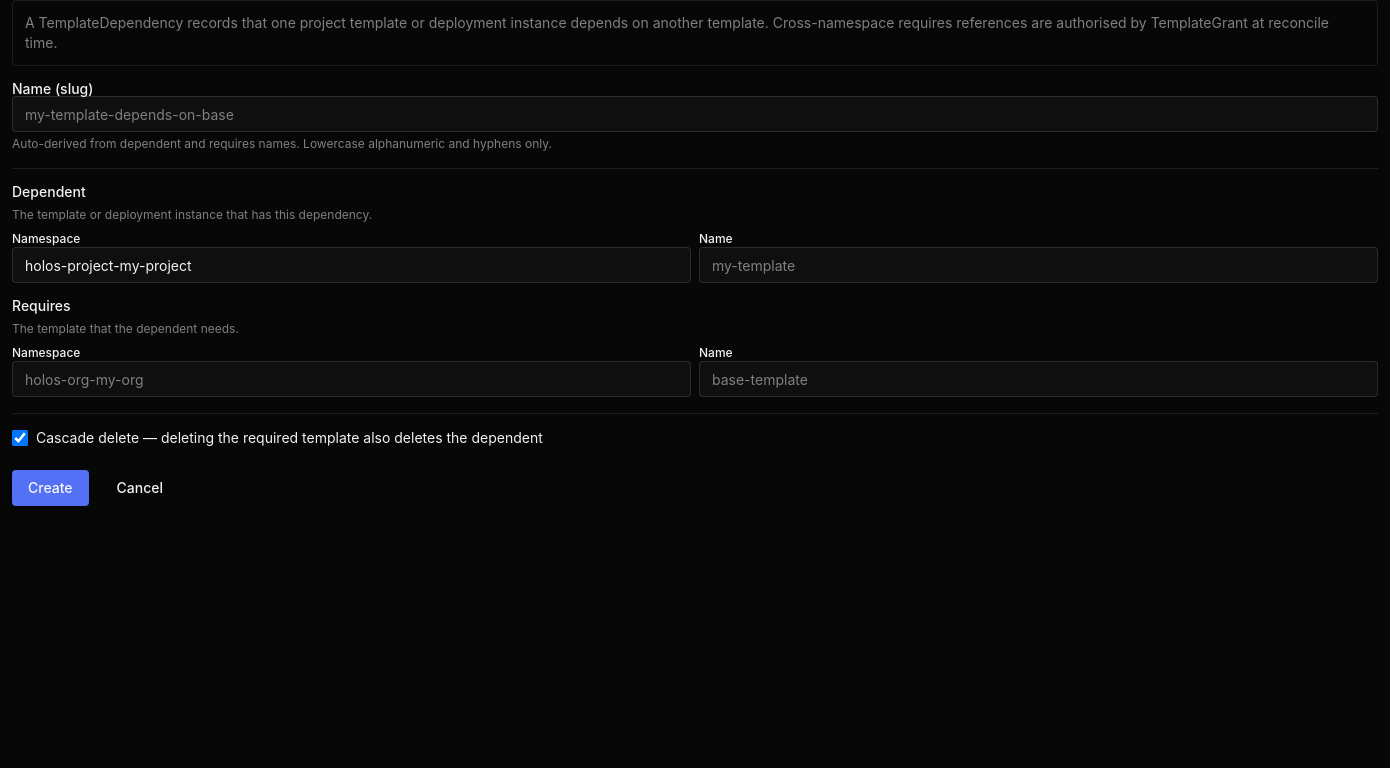
Test: DependencyForm › shows an error when name is empty on submit
Click the button "Create": x=50, y=488 [12, 470, 89, 506]
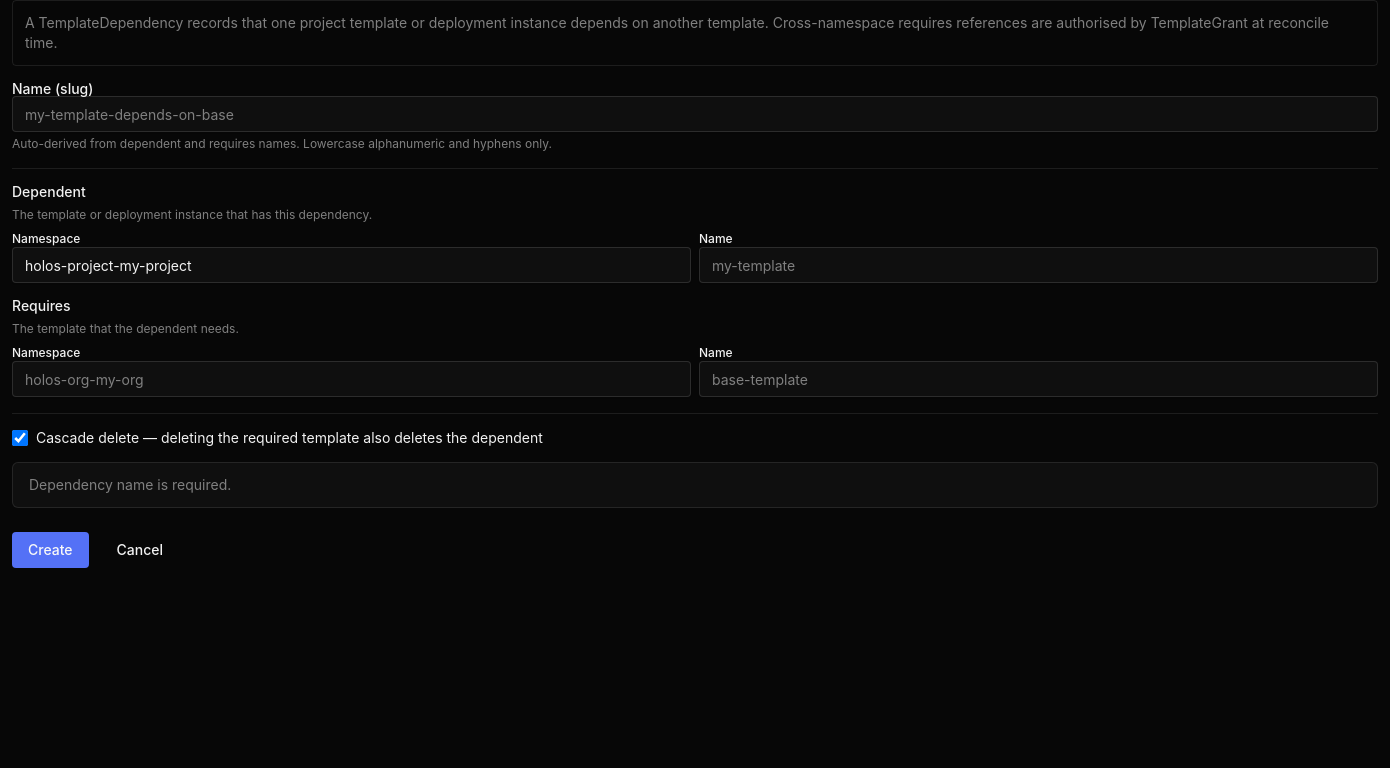
Expected: the element with test id "dependency-form-error" shows "Dependency name is required", [29, 476, 231, 493]
